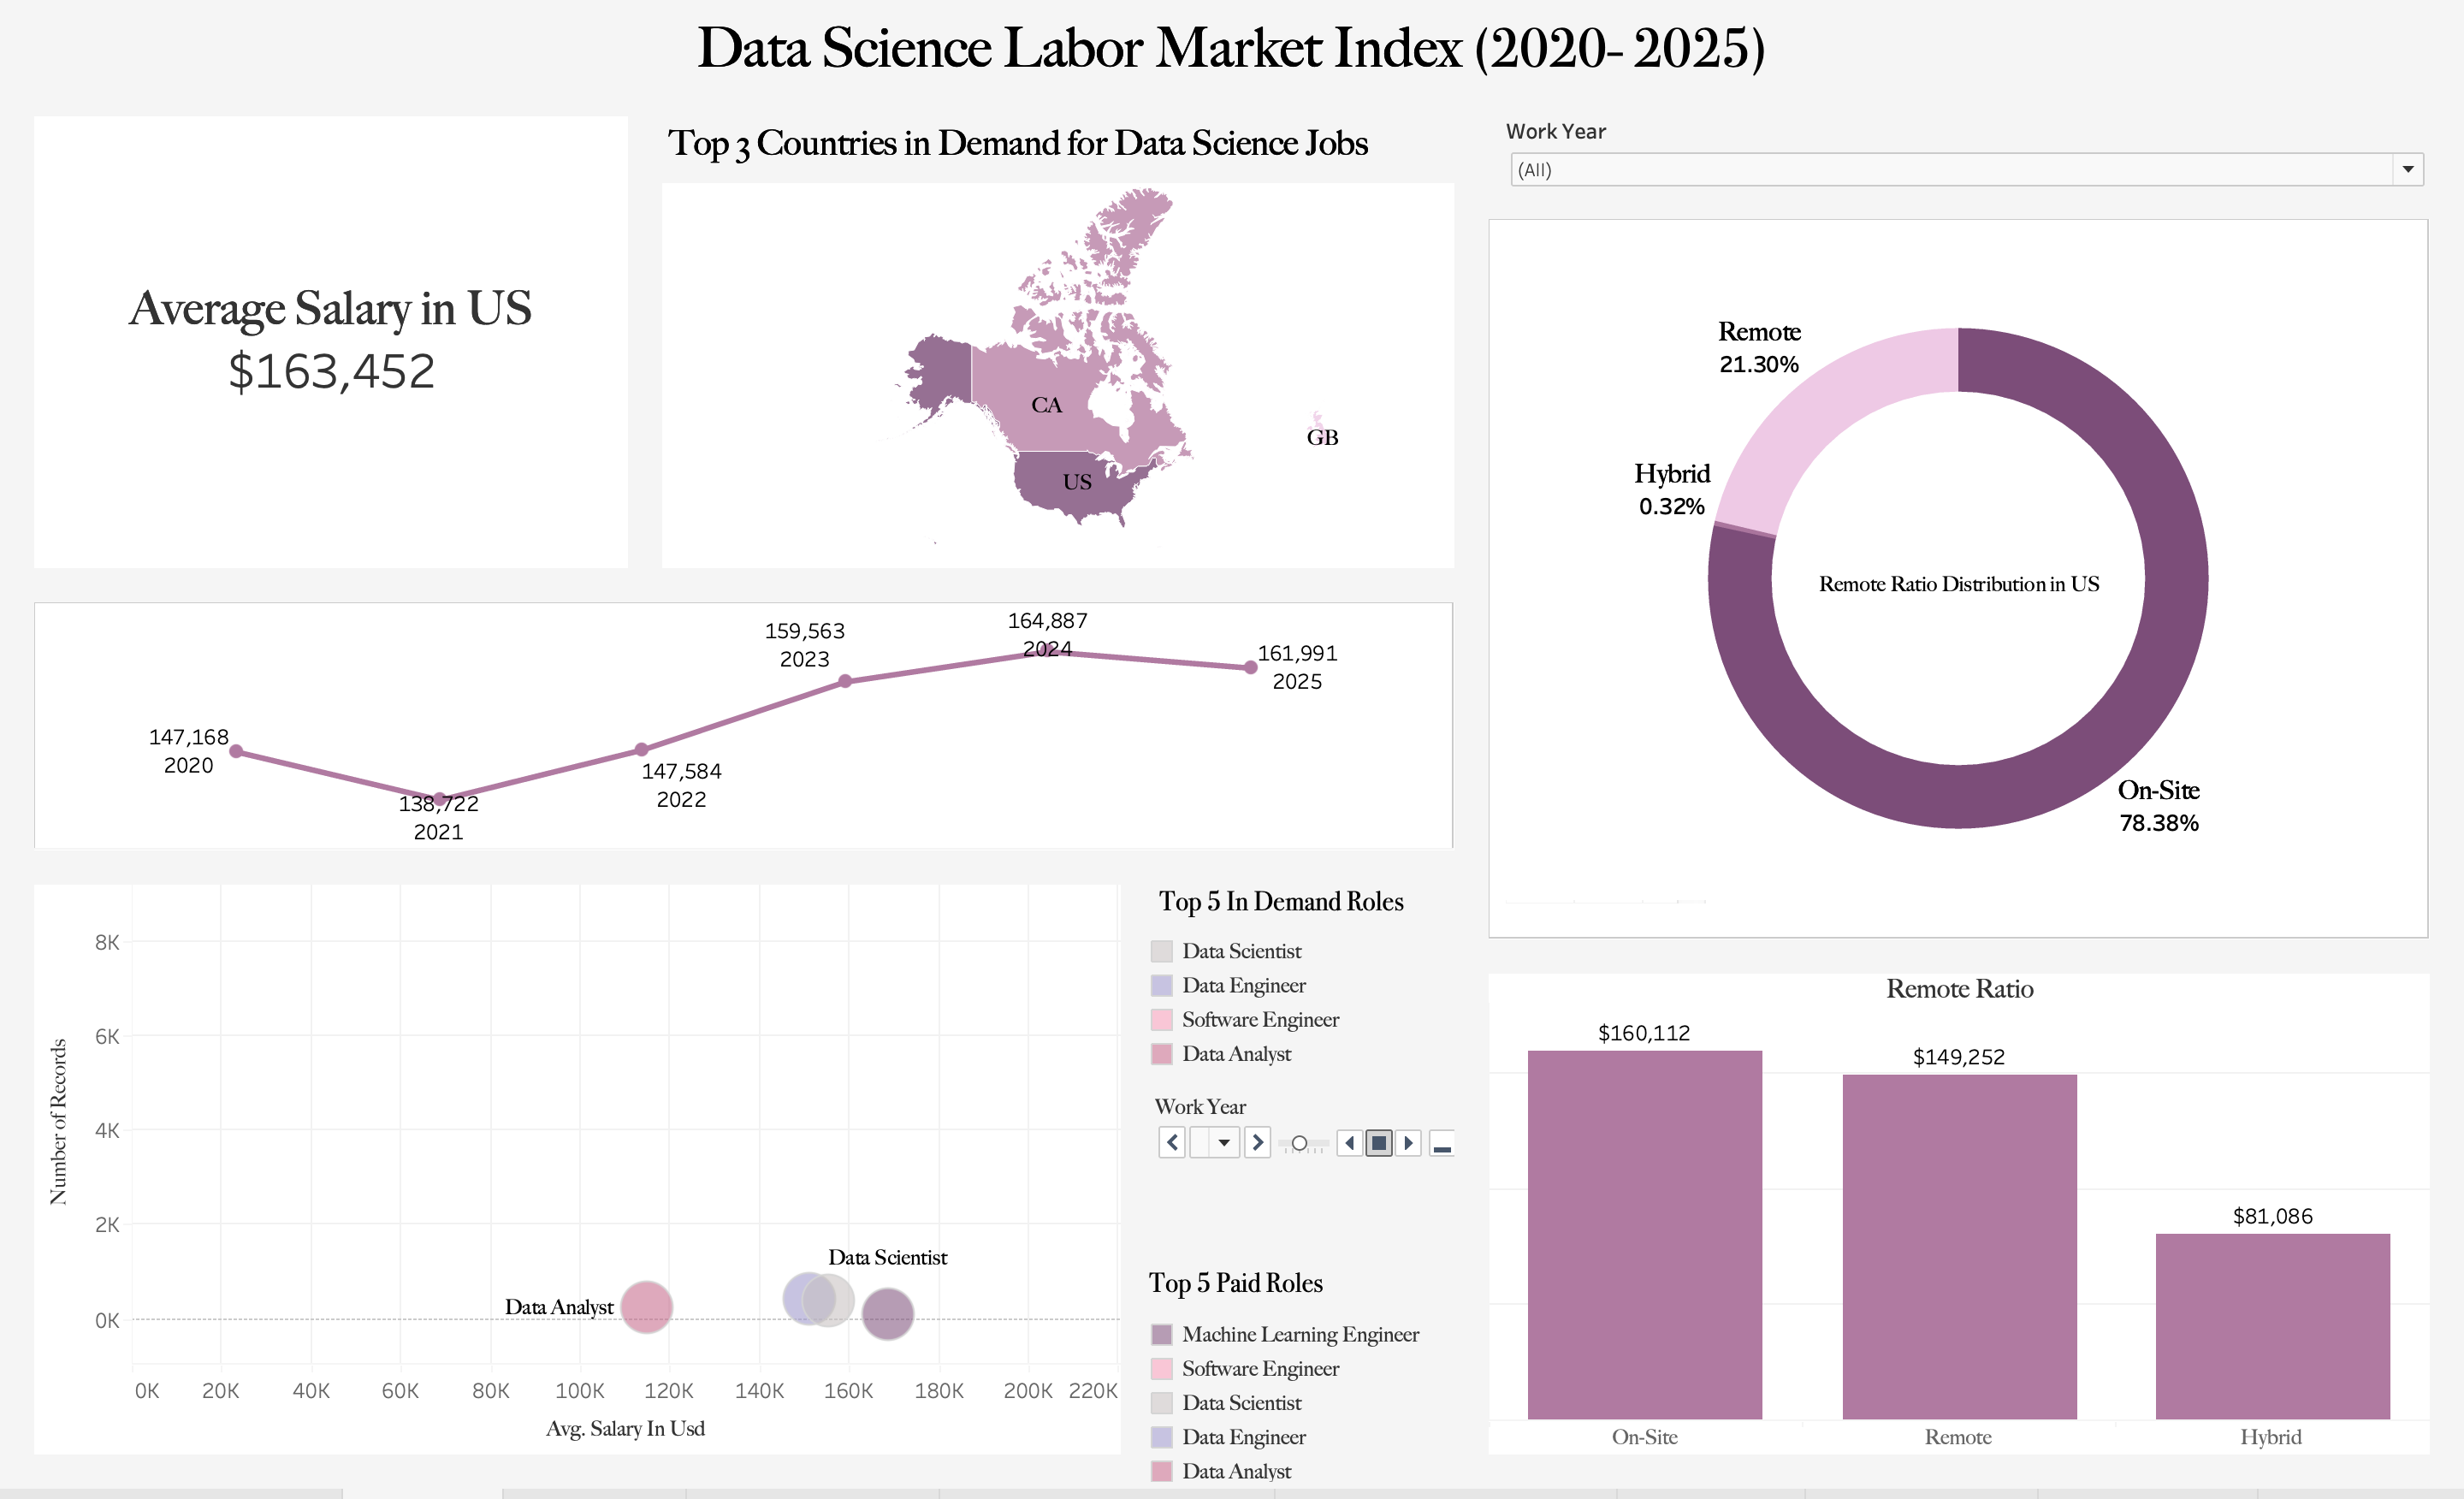

The dashboard page shown, as its layout file describes it:
{"tool":"tableau","page":{"name":"Dashboard","canvas":[1000,1000],"units":"permille","ordinal":0},"visuals":[{"type":"text","box":[0,0,1000,66.2]},{"type":"worksheet","title":"Avg Salary in US","mark":"Automatic","box":[0,66.2,252.8,325.7]},{"type":"worksheet","title":"Map of Top 3 Countries","mark":"Automatic","box":[252.8,66.2,323.9,325.7]},{"type":"filter","title":"Remote Ratio Distribution in US","param":"[federated.12adgsi087uk871dzniex01se2xr].[none:work_year:ok]","box":[576.8,66.2,423.2,75]},{"type":"worksheet","title":"Remote Ratio Distribution in US","mark":"Pie","rows":["Calculation_97038502294650880","Calculation_97038502294650880"],"box":[576.8,141.2,423.2,501.2]},{"type":"worksheet","title":"Yearly Average Salary","mark":"Automatic","rows":["salary_in_usd","salary_in_usd"],"cols":["work_year"],"box":[0,391.9,576.8,189.2]},{"type":"worksheet","title":"Top 5 in Demand","mark":"Circle","rows":["Calculation_2223230107600896000"],"cols":["salary_in_usd"],"box":[0,581.2,446,418.8]},{"type":"text","box":[446,581.2,130.8,40.1]},{"type":"worksheet","title":"Top 5 HIghest Paying","mark":"Circle","rows":["Calculation_2223230107600896000"],"cols":["salary_in_usd"],"box":[611.1,604.3,138.1,2]},{"type":"legend","title":"Top 5 in Demand","param":"[federated.12adgsi087uk871dzniex01se2xr].[none:job_title:nk]","box":[446,621.3,130.8,102.6]},{"type":"worksheet","title":"Average Salary by Remote Ratio ","mark":"Automatic","rows":["salary_in_usd"],"cols":["remote_ratio"],"box":[576.8,642.5,423.2,357.5]},{"type":"currpage","title":"Top 5 in Demand","box":[446,723.9,130.8,119.7]},{"type":"text","box":[446,843.6,130.8,36.7]},{"type":"legend","title":"Top 5 HIghest Paying","param":"[federated.12adgsi087uk871dzniex01se2xr].[none:job_title:nk]","box":[446,880.3,130.8,119.7]}]}

Visuals, with their boxes on the dashboard's canvas, which has no fixed pixel size, in thousandths of its width and height (x1, y1, x2, y2). These are canvas units, not pixel positions in the 2464x1499 screenshot, which may show the page scaled, cropped or inside an application window:
text: 0,0,1000,66
"Avg Salary in US" worksheet: 0,66,253,392
"Map of Top 3 Countries" worksheet: 253,66,577,392
"Remote Ratio Distribution in US" filter: 577,66,1000,141
"Remote Ratio Distribution in US" worksheet (Pie marks): 577,141,1000,642
"Yearly Average Salary" worksheet: 0,392,577,581
"Top 5 in Demand" worksheet (Circle marks): 0,581,446,1000
text: 446,581,577,621
"Top 5 HIghest Paying" worksheet (Circle marks): 611,604,749,606
"Top 5 in Demand" legend: 446,621,577,724
"Average Salary by Remote Ratio " worksheet: 577,642,1000,1000
"Top 5 in Demand" currpage: 446,724,577,844
text: 446,844,577,880
"Top 5 HIghest Paying" legend: 446,880,577,1000
